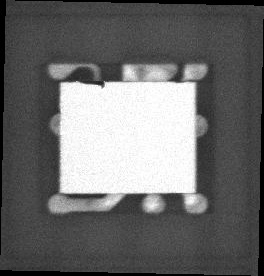DIE_BROKEN: (78, 78, 107, 89)
